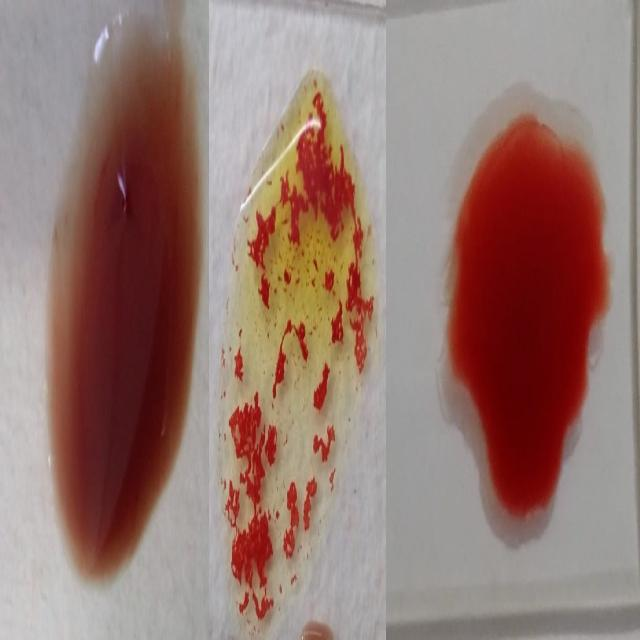B: (221, 67, 372, 622)
